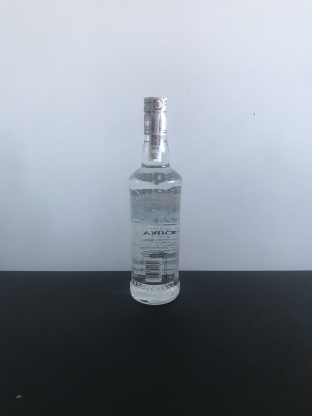nakretka: (141, 93, 169, 138)
